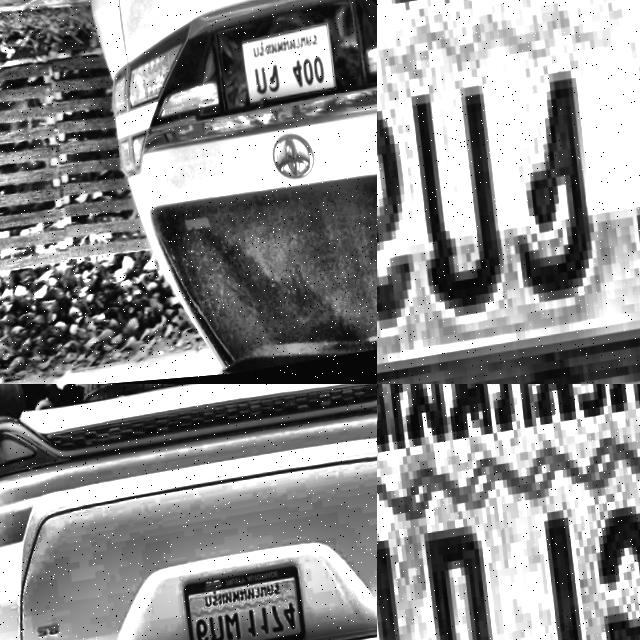license-plate: (377, 0, 640, 384), (377, 384, 640, 640), (176, 565, 306, 640), (237, 32, 335, 116)
